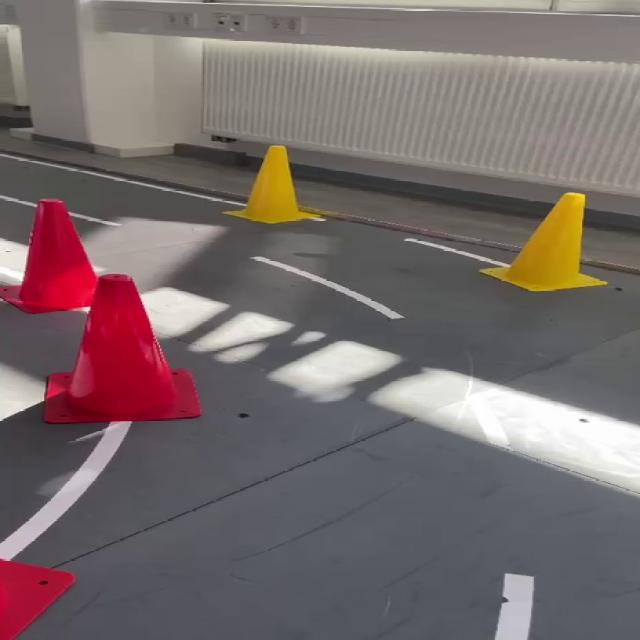Cone-red: (44, 275, 200, 423), (0, 199, 97, 313), (0, 559, 73, 639)
Cones-yellow: (480, 193, 607, 292), (225, 145, 324, 224)
